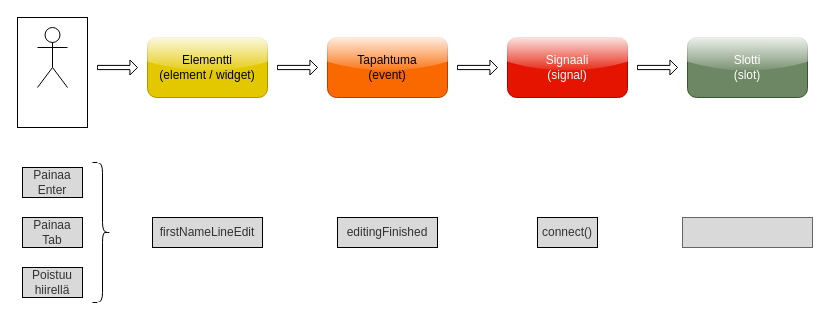
Image size: 830x320. Some labels were removed from this diagram. The shapes that lost their labels are listed below. From the top down, each one's box as (x1, y1, x2, y2) in pixels, then its label:
(36, 26, 68, 88): Käyttäjän toimenpide
(682, 216, 812, 248): self.beautifyLineEdit()
